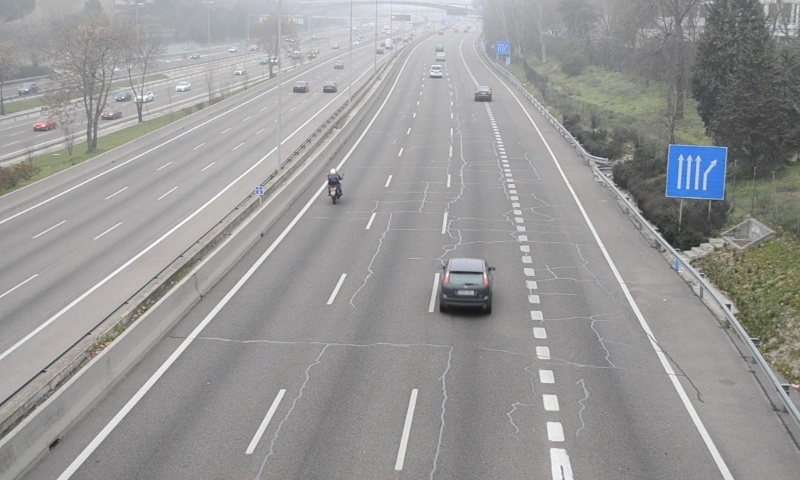car: (439, 257, 491, 312), (474, 86, 491, 101), (430, 64, 442, 78)
motorcycle: (324, 168, 344, 207)
